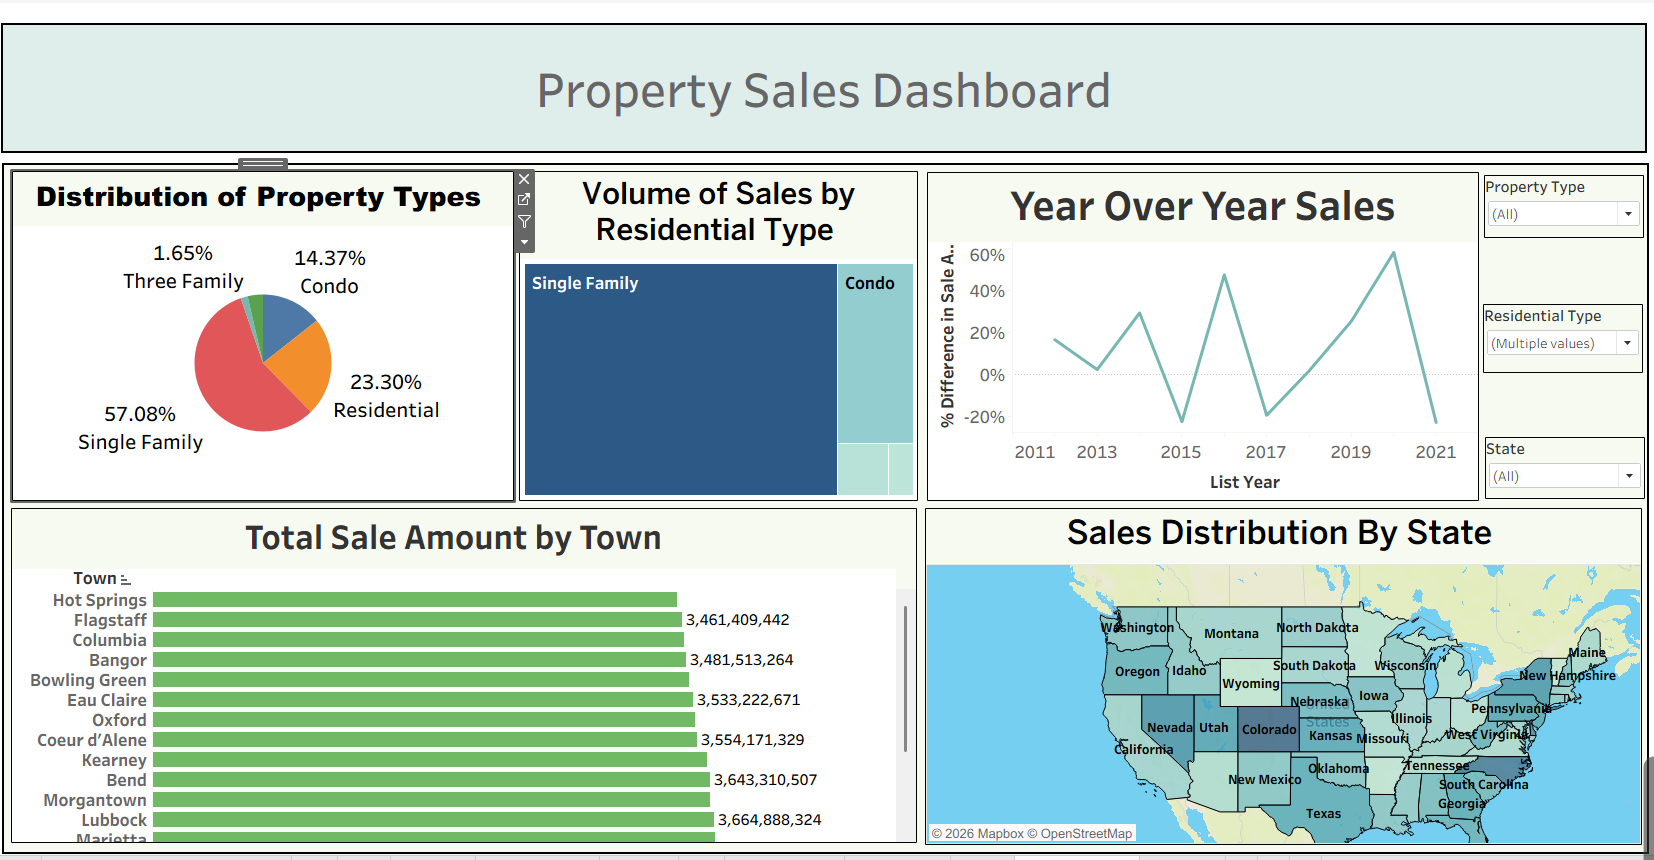

This screenshot's page, from the dashboard's own definition file:
{"tool":"tableau","page":{"name":"Dashboard 1","canvas":[1000,1000],"units":"permille","ordinal":0},"visuals":[{"type":"text","box":[2.4,23.5,993.4,152.8]},{"type":"worksheet","title":"Pie Chart ","mark":"Pie","box":[9.1,197.4,303,387.8]},{"type":"worksheet","title":"Treemap","mark":"Automatic","box":[315,197.4,240.8,387.8]},{"type":"worksheet","title":"YOY","mark":"Automatic","rows":["Sale Amount"],"cols":["List Year"],"box":[561.3,198.6,333.1,386.6]},{"type":"filter","title":"Treemap","param":"[federated.0cdmd9y18v29c117ha9xm10hqfdk].[none:Property Type:nk]","box":[897.4,202.1,96.6,74]},{"type":"filter","title":"Treemap","param":"[federated.0cdmd9y18v29c117ha9xm10hqfdk].[none:Residential Type:nk]","box":[896.8,353.7,96.6,81.1]},{"type":"filter","title":"Treemap","param":"[federated.0cdmd9y18v29c117ha9xm10hqfdk].[none:State:nk]","box":[898,510,96.6,72.9]},{"type":"worksheet","title":"Bar Chart-Total Sale Amount by Town","mark":"Automatic","rows":["Town"],"cols":["Sale Amount"],"box":[8.4,593.4,546.8,393.7]},{"type":"worksheet","title":"Map","mark":"Automatic","box":[560.1,593.4,432.7,396]}]}

Visuals, with their boxes on the dashboard's canvas, which has no fixed pixel size, in thousandths of its width and height (x1, y1, x2, y2). These are canvas units, not pixel positions in the 1654x860 screenshot, which may show the page scaled, cropped or inside an application window:
text: {"x1": 2, "y1": 24, "x2": 996, "y2": 176}
"Pie Chart " worksheet (Pie marks): {"x1": 9, "y1": 197, "x2": 312, "y2": 585}
"Treemap" worksheet: {"x1": 315, "y1": 197, "x2": 556, "y2": 585}
"YOY" worksheet: {"x1": 561, "y1": 199, "x2": 894, "y2": 585}
"Treemap" filter: {"x1": 897, "y1": 202, "x2": 994, "y2": 276}
"Treemap" filter: {"x1": 897, "y1": 354, "x2": 993, "y2": 435}
"Treemap" filter: {"x1": 898, "y1": 510, "x2": 995, "y2": 583}
"Bar Chart-Total Sale Amount by Town" worksheet: {"x1": 8, "y1": 593, "x2": 555, "y2": 987}
"Map" worksheet: {"x1": 560, "y1": 593, "x2": 993, "y2": 989}
